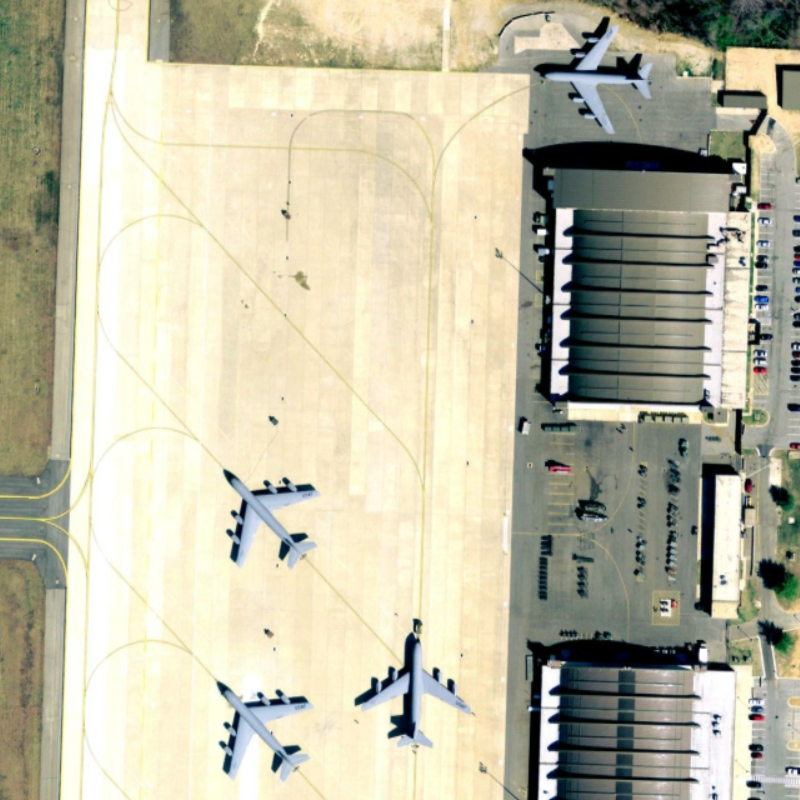A14: (352, 630, 472, 749), (537, 19, 657, 135), (216, 458, 323, 578), (208, 674, 315, 783)
